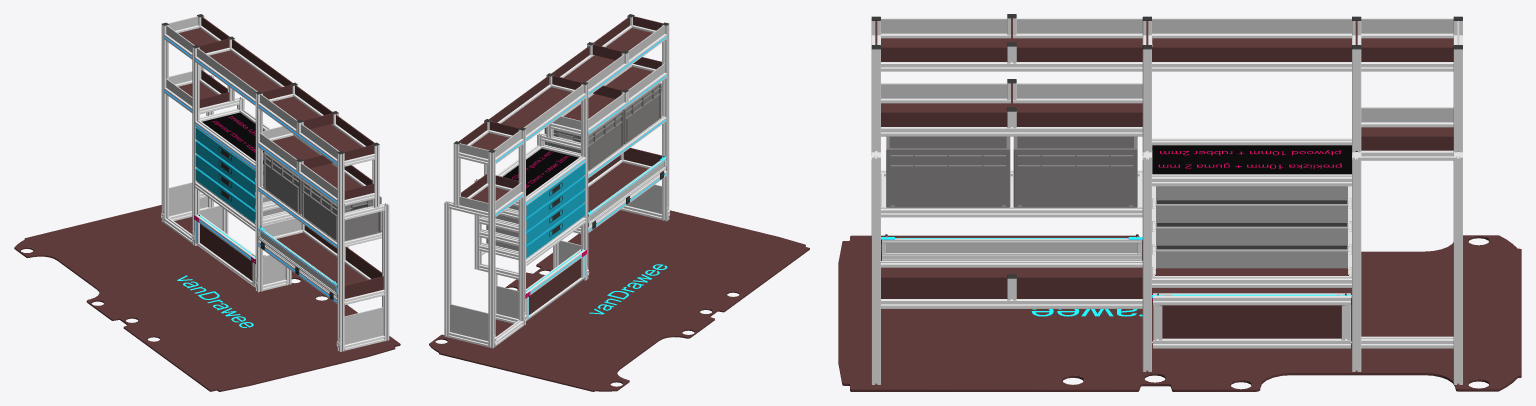
Rendered from vd_export_regalova_vestavba_mercedes_sprinter_l2h2_60743569.glb.
The picture shows the model from 3 angles, left to right: view 1: azimuth 30°, elevation 25°; view 2: azimuth 150°, elevation 25°; view 3: azimuth 270°, elevation 25°; orthographic projection. The views are drawn at different scales.
Visible parts, largest first — view 1: SomeName041_Mesh_14008, 45x45x1750_noha (×4), PR10_1266x306 (×4), drawer (×4), PR10_1266x395 (×2), box6432_2, CUB10_395x260 (×2), 45x45x1267_Zx2_2 (×3), box6432_3, PR10_1192x210, 45x45x1200_noha, 45x45x1267_Zx2 (×2) (+19 smaller); view 2: SomeName041_Mesh_14008, 45x45x1750_noha (×4), PR10_1266x306 (×4), drawer (×4), PR10_1266x395 (×2), CUB10_395x260 (×2), box6432_3, 45x45x1267_Zx2_2 (×3), box6432_2, PR10_1192x210, CUB10_240x260 (×2), 45x45x1200_noha (+18 smaller); view 3: SomeName041_Mesh_14008, Suplikocel1001057459 (×4), 45x45x1267_Zx2 (×7), 45x45x1267_Zx2_2 (×5), box6432_2, box6432_3, PR10_1266x395 (×2), PR10_1266x306 (×5), CUB10_1292x89 (×3), PR10_1192x210, PR10_1292x89 (×3), 45x45x1200_noha (×2) (+19 smaller).
Boxes of the visible parts, x1,y1,x2,y2 form: SomeName041_Mesh_14008: (14, 205, 400, 391); 45x45x1750_noha (×4): (161, 24, 344, 351); PR10_1266x306 (×4): (178, 28, 361, 190); drawer (×4): (195, 127, 255, 223); PR10_1266x395 (×2): (202, 112, 366, 285); box6432_2: (301, 180, 381, 241); CUB10_395x260 (×2): (169, 182, 383, 344); 45x45x1267_Zx2_2 (×3): (195, 56, 337, 204); box6432_3: (263, 152, 302, 214); PR10_1192x210: (200, 224, 252, 280); 45x45x1200_noha: (382, 203, 389, 341); 45x45x1267_Zx2 (×2): (195, 182, 337, 303); SomeName041_Mesh_14008: (429, 210, 809, 391); 45x45x1750_noha (×4): (488, 24, 669, 348); PR10_1266x306 (×4): (471, 28, 652, 150); drawer (×4): (526, 163, 585, 258); PR10_1266x395 (×2): (503, 148, 648, 210); CUB10_395x260 (×2): (450, 184, 661, 340); box6432_3: (544, 110, 623, 170); 45x45x1267_Zx2_2 (×3): (526, 34, 666, 141); box6432_2: (622, 82, 661, 144); PR10_1192x210: (528, 258, 580, 314); CUB10_240x260 (×2): (496, 240, 580, 318); 45x45x1200_noha: (444, 201, 451, 337); SomeName041_Mesh_14008: (838, 235, 1521, 391); Suplikocel1001057459 (×4): (1156, 186, 1347, 268); 45x45x1267_Zx2 (×7): (881, 62, 1453, 348); 45x45x1267_Zx2_2 (×5): (881, 33, 1351, 308); box6432_2: (886, 136, 1010, 207); box6432_3: (1013, 136, 1137, 207); PR10_1266x395 (×2): (881, 145, 1351, 276); PR10_1266x306 (×5): (881, 38, 1453, 135); CUB10_1292x89 (×3): (1152, 18, 1453, 122); PR10_1192x210: (1160, 305, 1343, 338); PR10_1292x89 (×3): (1152, 47, 1453, 150); 45x45x1200_noha (×2): (871, 157, 1462, 384).
Size of the model in its own units: 1774 by 1783 by 3308.
